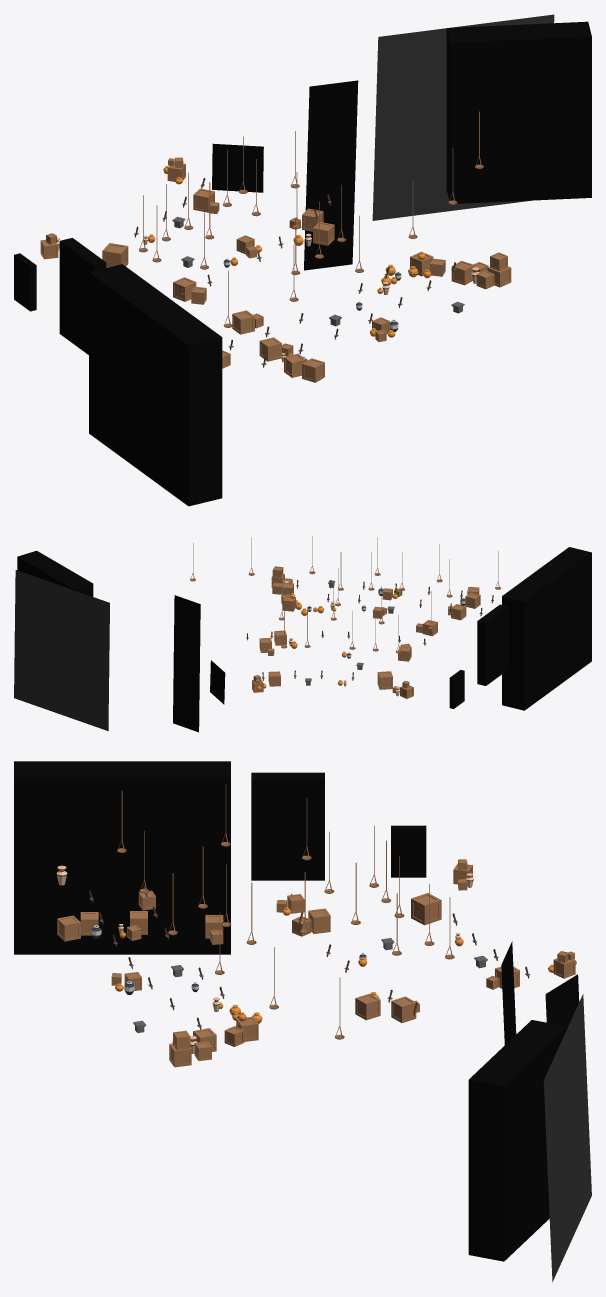
File: era1Objectsv3.glb
3 views of the same model, one above another, from view 1: azimuth 30°, elevation 25°; view 2: azimuth 150°, elevation 25°; view 3: azimuth 270°, elevation 25° (orthographic). The views are drawn at different scales.
Parts seen in each view (by area): view 1: Cube.006; view 2: Cube.006; view 3: Cube.006.
Boxes of the visible parts, x1=… form: Cube.006: x1=14, y1=14, x2=591, y2=506; Cube.006: x1=14, y1=536, x2=591, y2=732; Cube.006: x1=14, y1=761, x2=591, y2=1282.
Size of the model in its own units: 261 by 86.42 by 192.
